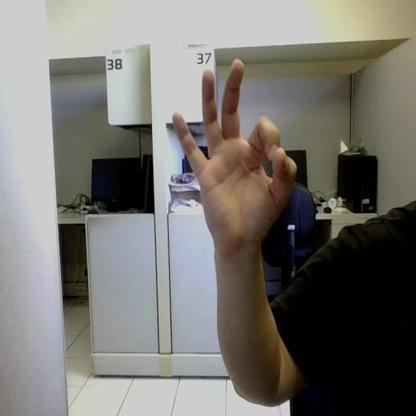F: (171, 59, 297, 245)
